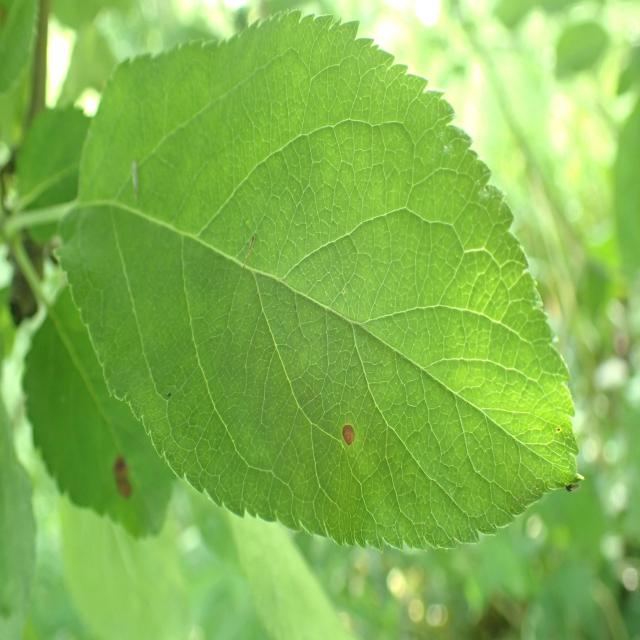Black Rot: (111, 430, 145, 510), (330, 398, 367, 471)
